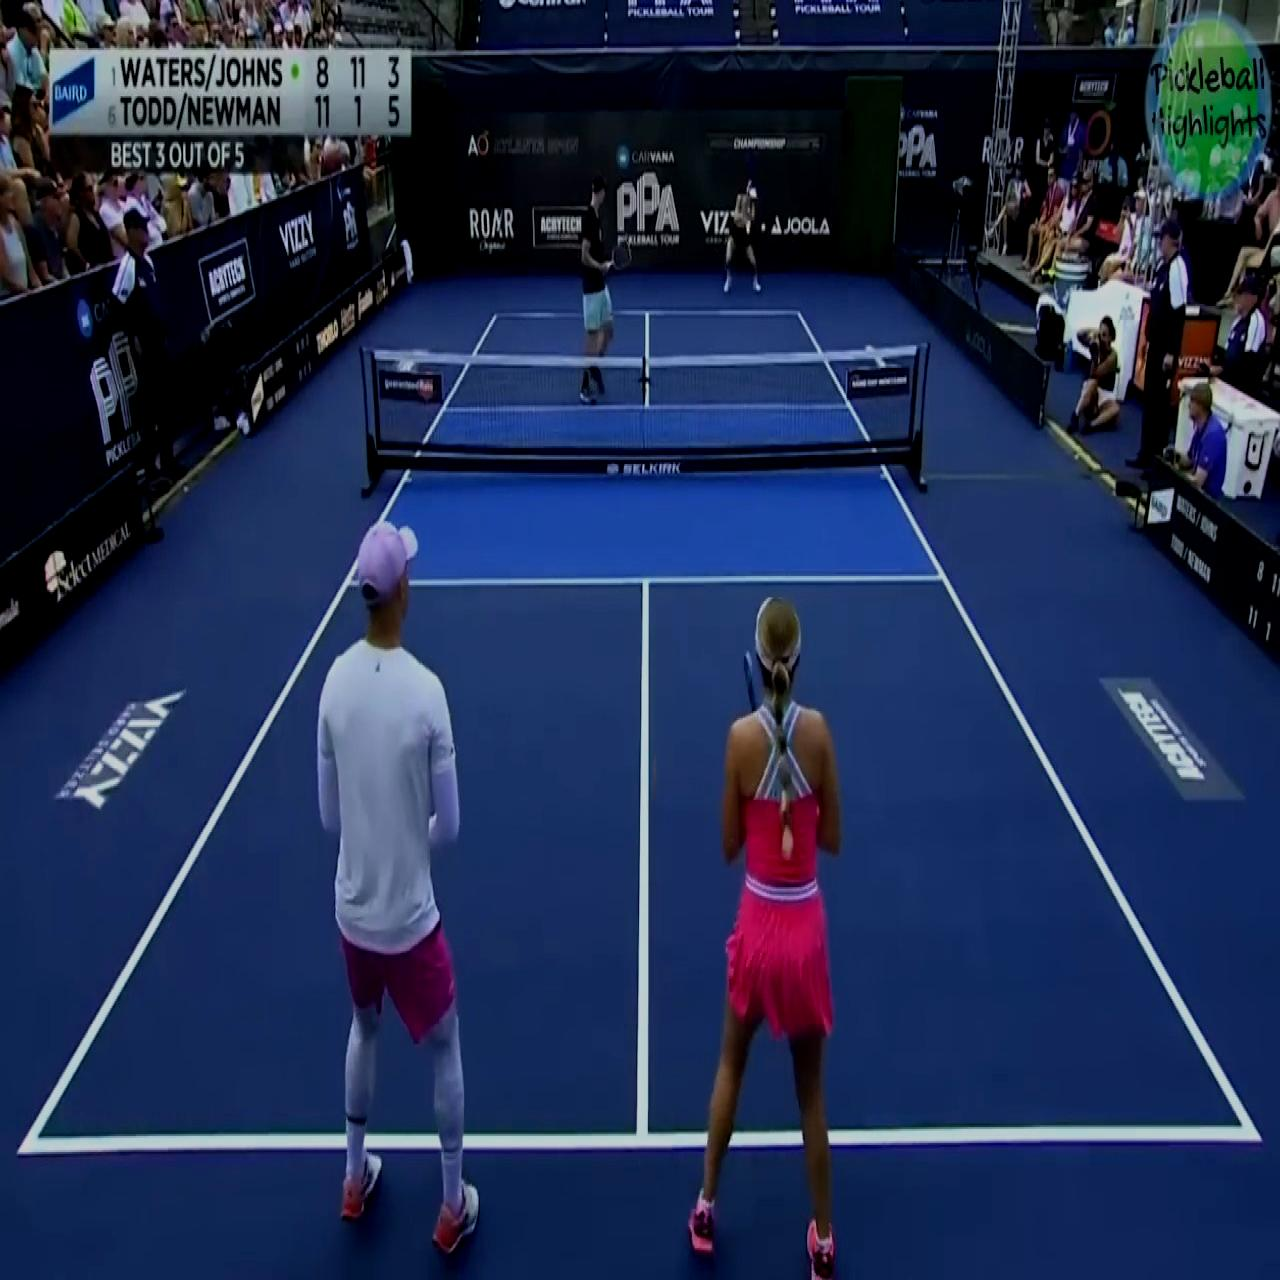Pickleball: (758, 213, 770, 234)
